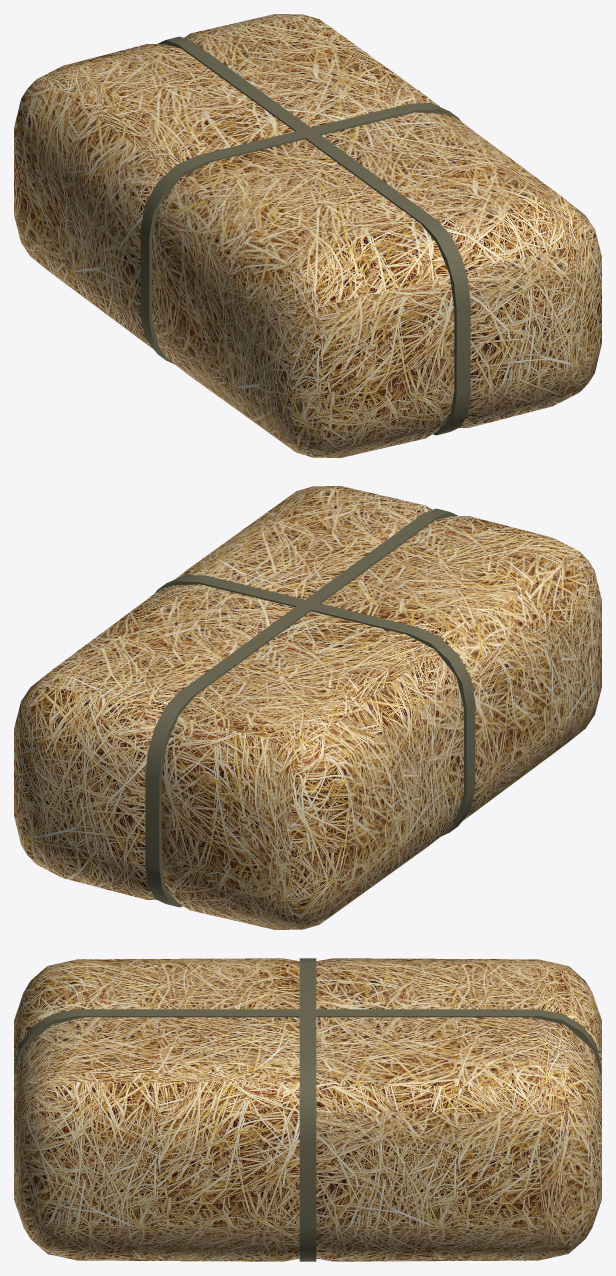
File: TesteFeno.fbx
3 views of the same model, one above another, from view 1: azimuth 30°, elevation 25°; view 2: azimuth 150°, elevation 25°; view 3: azimuth 270°, elevation 25° (orthographic). The views are drawn at different scales.
Parts seen in each view (by area): view 1: Cube, Cube.007; view 2: Cube, Cube.007; view 3: Cube, Cube.007.
Part boxes in pixels (left/top/right/bottom): Cube: left=14, top=14, right=601, bottom=457; Cube.007: left=140, top=36, right=470, bottom=435; Cube: left=14, top=486, right=601, bottom=929; Cube.007: left=145, top=508, right=475, bottom=907; Cube: left=14, top=958, right=601, bottom=1261; Cube.007: left=14, top=958, right=601, bottom=1261.
Size of the model in its own units: 142 by 86.27 by 236.
